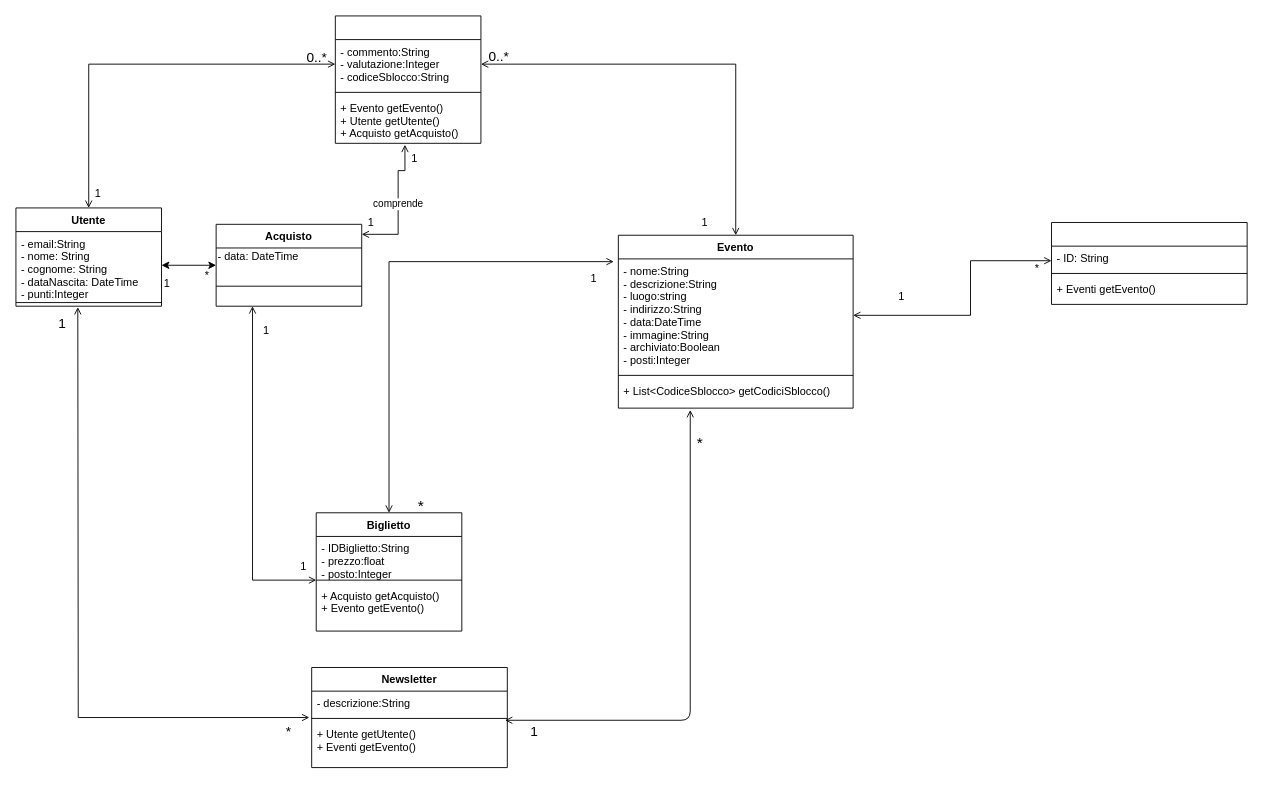
The diagram is 1263 pixels wide and 786 high, and some of its shapes have lost their labels. Each missing label, with the box of its shape:
CodiceSblocco: (1051, 222, 1247, 304)
Feedback: (334, 15, 481, 143)
